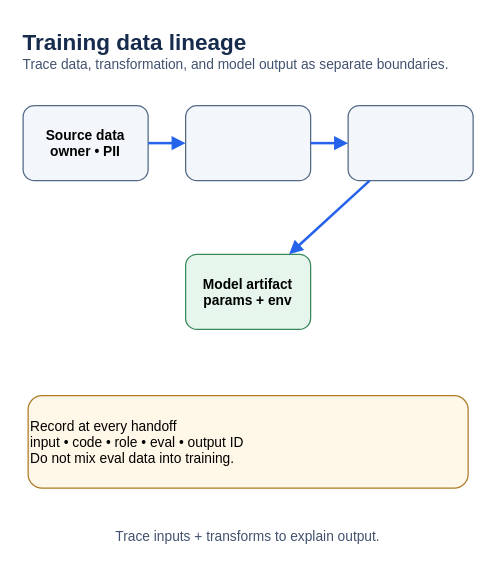
The diagram is 496 pixels wide and 566 high, and some of its shapes have lost their labels. Here are the shapes that lost their labels. From the top down, the box of each, then its label:
(184, 104, 311, 181): Transform code + dataset
(347, 104, 473, 181): Training set access boundary
